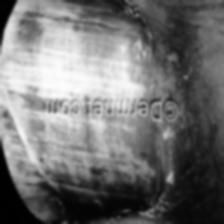Toxin: (7, 121, 181, 224), (0, 0, 180, 94)
